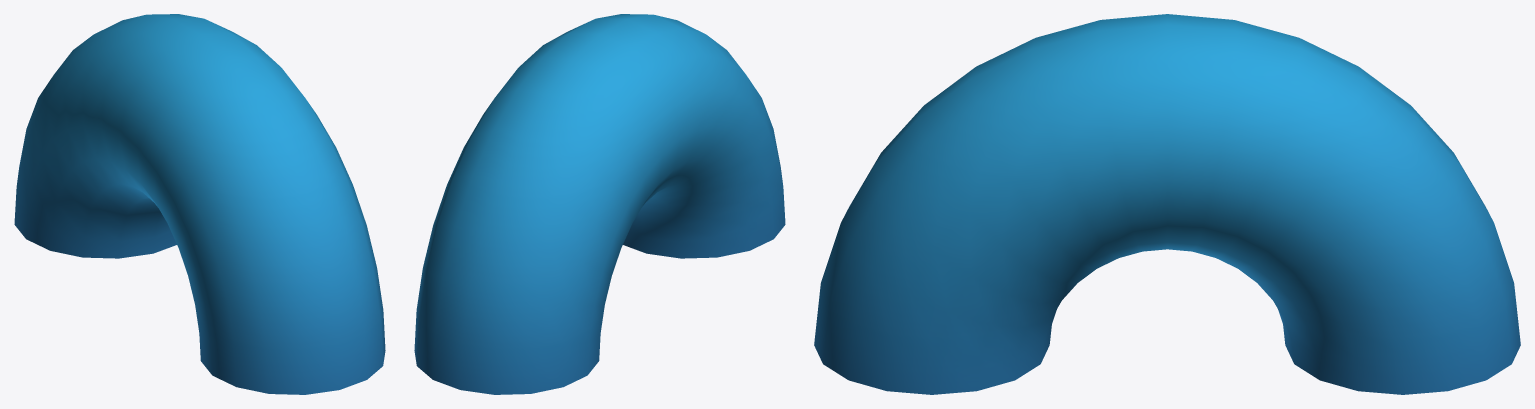
Rendered from kaykit_pipe_180_A_blue.glb.
3 views of the same model, side by side, from view 1: azimuth 30°, elevation 25°; view 2: azimuth 150°, elevation 25°; view 3: azimuth 270°, elevation 25° (orthographic). The views are drawn at different scales.
Visible parts, largest first — view 1: pipe_180_A_blue_visual; view 2: pipe_180_A_blue_visual; view 3: pipe_180_A_blue_visual.
Boxes of the visible parts, left/top/right/bottom form: pipe_180_A_blue_visual: left=14, top=14, right=385, bottom=394; pipe_180_A_blue_visual: left=414, top=14, right=785, bottom=394; pipe_180_A_blue_visual: left=814, top=14, right=1520, bottom=394.
Size of what is drawn, in the model's own units: 2 by 3 by 6.
Materials: 1 (1 with a texture image).
